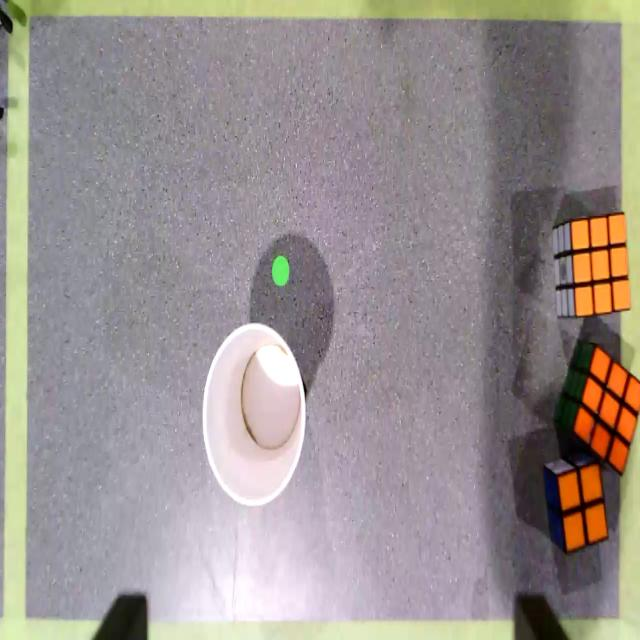cube2-orange: (558, 464, 609, 554)
cube3-orange: (573, 344, 640, 476), (569, 212, 631, 321)
